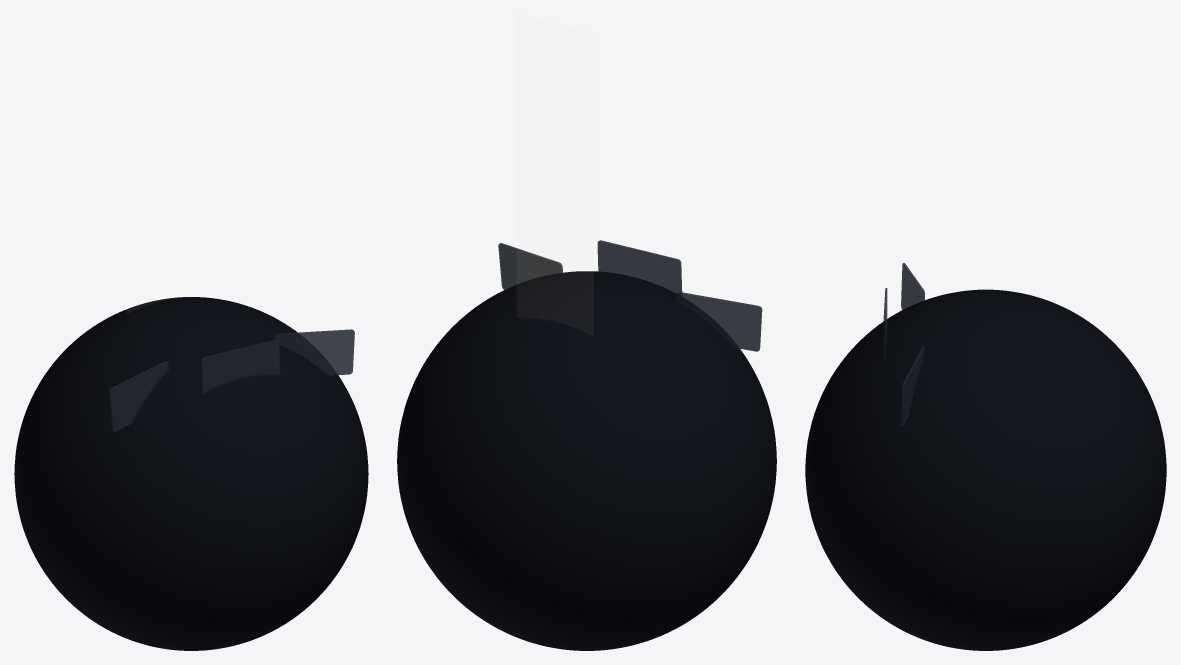
Rendered from hyprl-eclipse.glb.
The picture shows the model from 3 angles, left to right: view 1: azimuth 30°, elevation 25°; view 2: azimuth 150°, elevation 25°; view 3: azimuth 270°, elevation 25°; orthographic projection. The views are drawn at different scales.
Parts seen in each view (by area): view 1: Horizon, CenterPanel, RightPanel, LeftPanel; view 2: Horizon, LeftPanel, CenterPanel, RightPanel; view 3: Horizon, RightPanel, LeftPanel.
Part boxes in pixels (box(x1,y1,x2,y2)): Horizon: box(14, 297, 368, 650); CenterPanel: box(201, 339, 280, 393); RightPanel: box(274, 329, 354, 375); LeftPanel: box(109, 361, 169, 431); Horizon: box(397, 271, 776, 650); LeftPanel: box(676, 292, 762, 351); CenterPanel: box(597, 240, 682, 293); RightPanel: box(498, 243, 562, 289); Horizon: box(805, 289, 1166, 650); RightPanel: box(901, 346, 925, 425); LeftPanel: box(901, 263, 925, 309).
Bounding box in the file's own units: 18 × 33.1 × 18.
